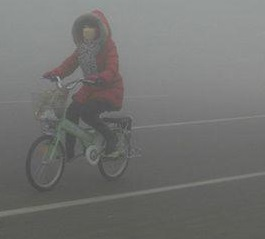person: (23, 8, 143, 192)
